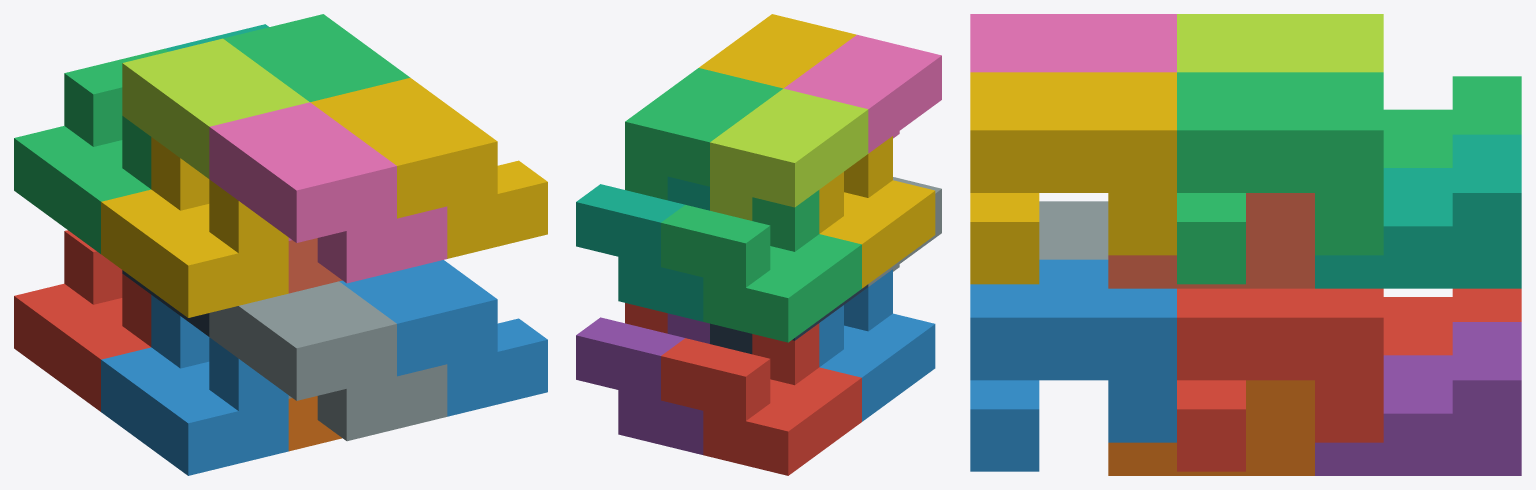
The model's file is tiling.obj.
3 renders of one model, left to right at view 1: azimuth 30°, elevation 25°; view 2: azimuth 150°, elevation 25°; view 3: azimuth 270°, elevation 25°, orthographic. The views are drawn at different scales.
Parts seen in each view (by area): view 1: copy_2_domain_4, copy_2_domain_2, copy_2_domain_8, copy_1_domain_2, copy_1_domain_4, copy_2_domain_6, copy_1_domain_3, copy_1_domain_1, copy_2_domain_3, copy_2_domain_7, copy_1_domain_8, copy_1_domain_6 (+1 smaller); view 2: copy_1_domain_3, copy_1_domain_1, copy_2_domain_3, copy_2_domain_7, copy_1_domain_7, copy_1_domain_5, copy_1_domain_2, copy_1_domain_4, copy_2_domain_4, copy_2_domain_8, copy_2_domain_1, copy_2_domain_5 (+1 smaller); view 3: copy_2_domain_8, copy_2_domain_7, copy_2_domain_6, copy_2_domain_5, copy_1_domain_7, copy_1_domain_5, copy_2_domain_3, copy_2_domain_4, copy_1_domain_6, copy_1_domain_8, copy_1_domain_3, copy_1_domain_1 (+1 smaller).
Boxes of the visible parts, x1=… form: copy_2_domain_4: x1=209, y1=102, x2=447, y2=283; copy_2_domain_2: x1=209, y1=281, x2=447, y2=441; copy_2_domain_8: x1=310, y1=78, x2=547, y2=258; copy_1_domain_2: x1=101, y1=295, x2=288, y2=475; copy_1_domain_4: x1=101, y1=137, x2=288, y2=317; copy_2_domain_6: x1=339, y1=260, x2=547, y2=416; copy_1_domain_3: x1=14, y1=48, x2=168, y2=253; copy_1_domain_1: x1=14, y1=230, x2=151, y2=411; copy_2_domain_3: x1=122, y1=38, x2=309, y2=178; copy_2_domain_7: x1=223, y1=14, x2=410, y2=101; copy_1_domain_8: x1=288, y1=238, x2=342, y2=293; copy_1_domain_6: x1=288, y1=396, x2=341, y2=451; copy_1_domain_3: x1=661, y1=190, x2=861, y2=342; copy_1_domain_1: x1=661, y1=323, x2=861, y2=475; copy_2_domain_3: x1=710, y1=88, x2=868, y2=220; copy_2_domain_7: x1=625, y1=68, x2=782, y2=200; copy_1_domain_7: x1=576, y1=176, x2=709, y2=321; copy_1_domain_5: x1=576, y1=313, x2=709, y2=454; copy_1_domain_2: x1=819, y1=269, x2=935, y2=421; copy_1_domain_4: x1=819, y1=136, x2=935, y2=288; copy_2_domain_4: x1=784, y1=34, x2=941, y2=153; copy_2_domain_8: x1=699, y1=14, x2=856, y2=88; copy_2_domain_1: x1=710, y1=284, x2=868, y2=354; copy_2_domain_5: x1=625, y1=303, x2=667, y2=333; copy_2_domain_8: x1=970, y1=72, x2=1176, y2=284; copy_2_domain_7: x1=1177, y1=72, x2=1383, y2=284; copy_2_domain_6: x1=970, y1=259, x2=1176, y2=471; copy_2_domain_5: x1=1177, y1=288, x2=1383, y2=471; copy_1_domain_7: x1=1315, y1=134, x2=1521, y2=288; copy_1_domain_5: x1=1315, y1=322, x2=1521, y2=475; copy_2_domain_3: x1=1177, y1=14, x2=1383, y2=72; copy_2_domain_4: x1=970, y1=14, x2=1176, y2=72; copy_1_domain_6: x1=1108, y1=380, x2=1314, y2=475; copy_1_domain_8: x1=1108, y1=193, x2=1314, y2=288; copy_1_domain_3: x1=1383, y1=76, x2=1521, y2=167; copy_1_domain_1: x1=1383, y1=288, x2=1521, y2=355.
Size of the model in its own units: 6 by 6 by 8.
